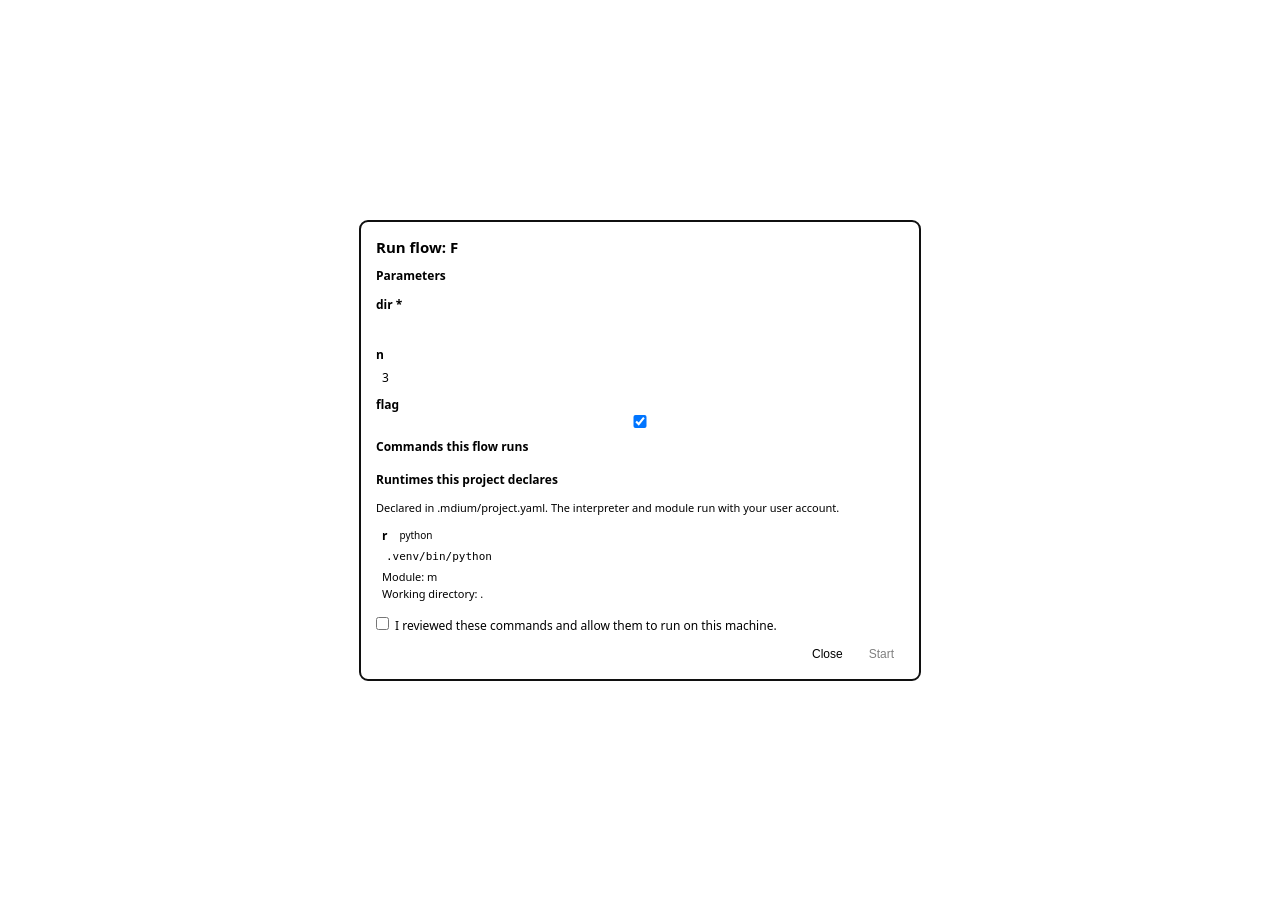
Test: run views › requires confirmation for manifest runtimes even without commands
Expected: the button "Start" is disabled, [859, 644, 904, 664]
Click the checkbox. click: (382, 623)
box: [376, 616, 389, 630]
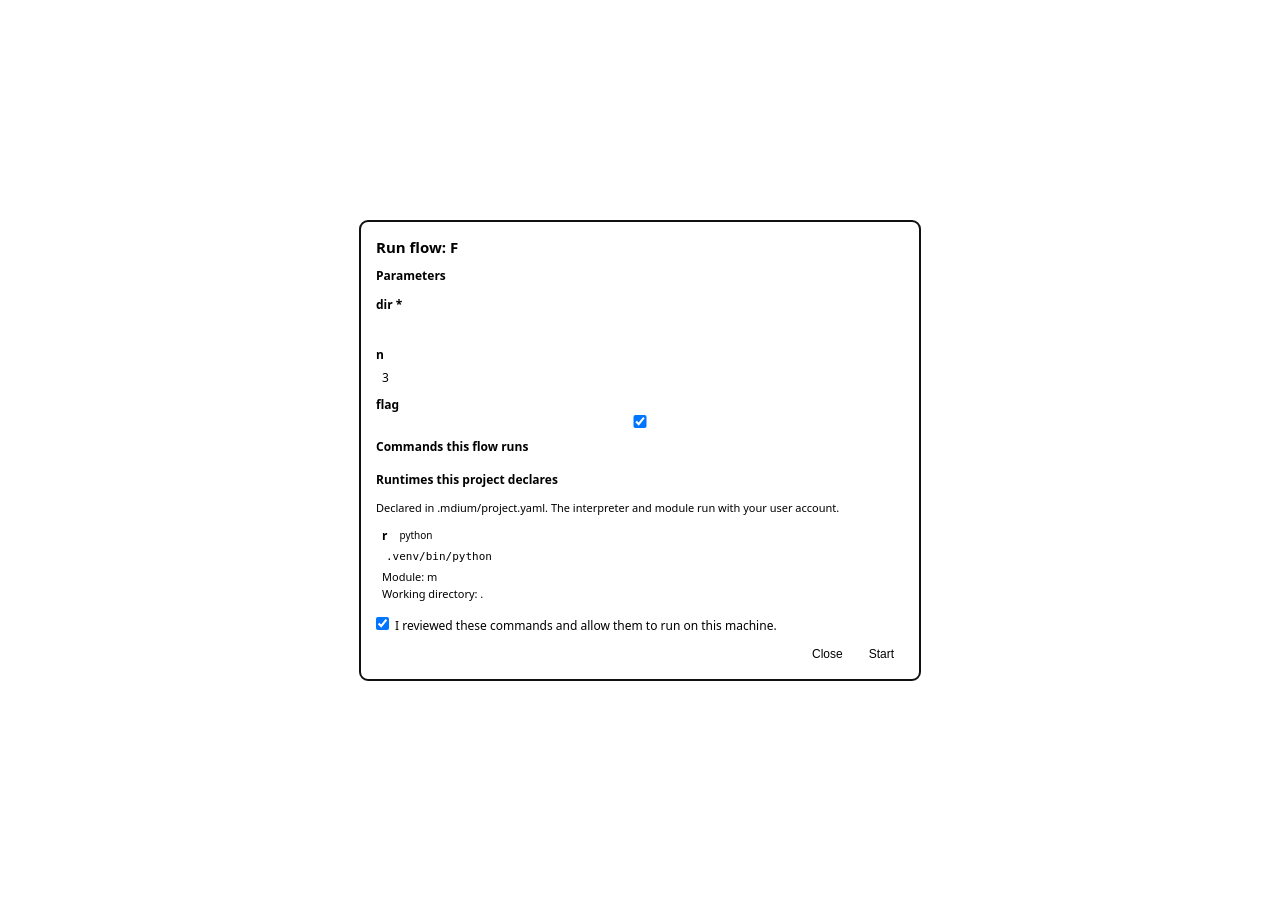
Expected: the button "Start" is enabled, [859, 644, 904, 664]
